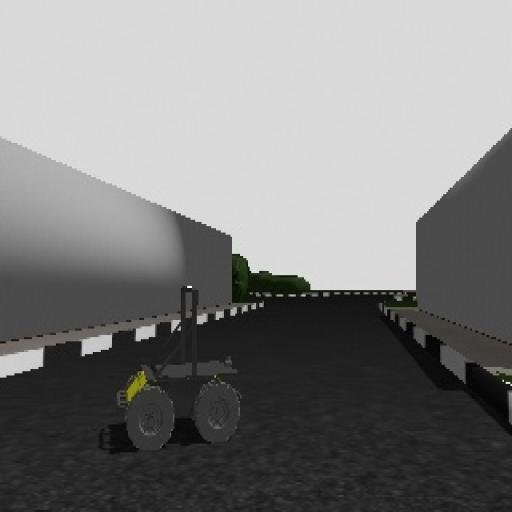huskya200: (107, 284, 248, 456)
